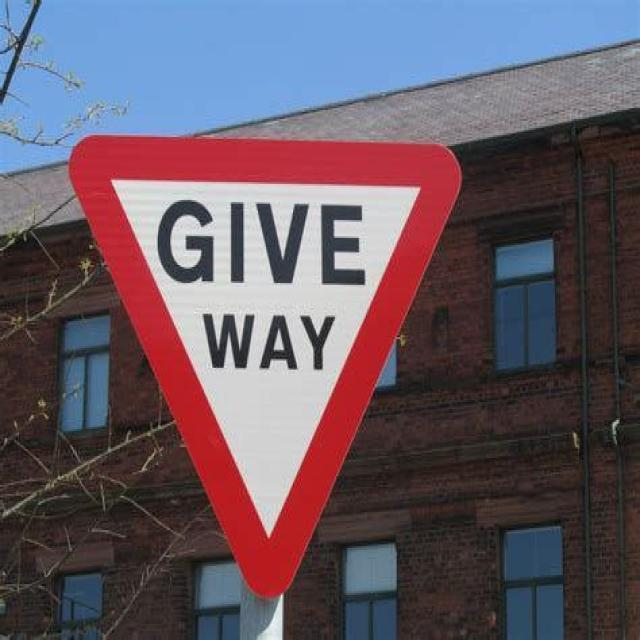give way: (73, 137, 473, 597)
